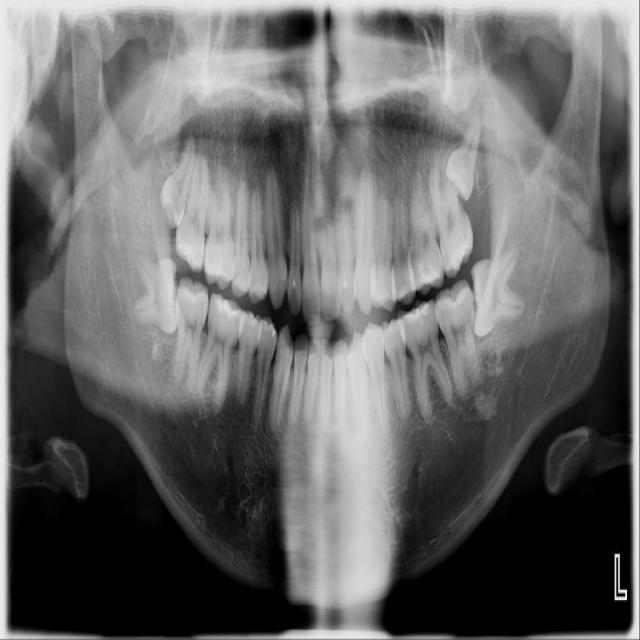3M ESPE Implant: (154, 135, 199, 232), (154, 134, 199, 231)
52: (394, 297, 444, 358), (404, 235, 447, 296), (438, 212, 475, 280), (205, 292, 246, 348), (174, 204, 205, 272), (174, 277, 210, 331), (204, 228, 235, 290), (336, 266, 359, 314), (257, 314, 278, 357), (287, 267, 302, 315)
73: (612, 564, 620, 574)
BioHorizons Implant: (425, 156, 480, 279)
BioLife Implant: (442, 112, 483, 202)
Biomet 3i Implant: (462, 243, 528, 339)
Blue Sky Bio Implant: (427, 277, 500, 400)
Caries: (173, 149, 211, 273), (173, 150, 211, 273)
Implant: (170, 277, 210, 391)
Keystone Dental Implant: (131, 252, 184, 335)
